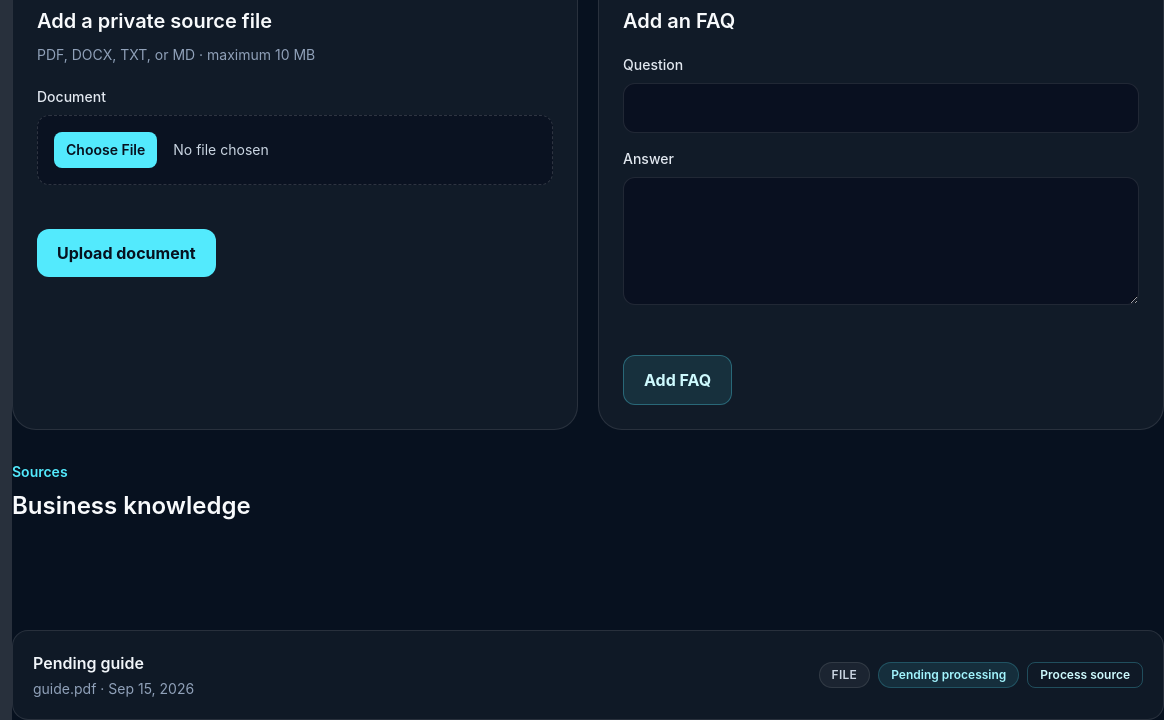
KnowledgePage › shows a safe failure without raw parser details
(page scrolled)
Click the button "Process source" at {"x": 1085, "y": 675}, box [1027,662,1143,688]
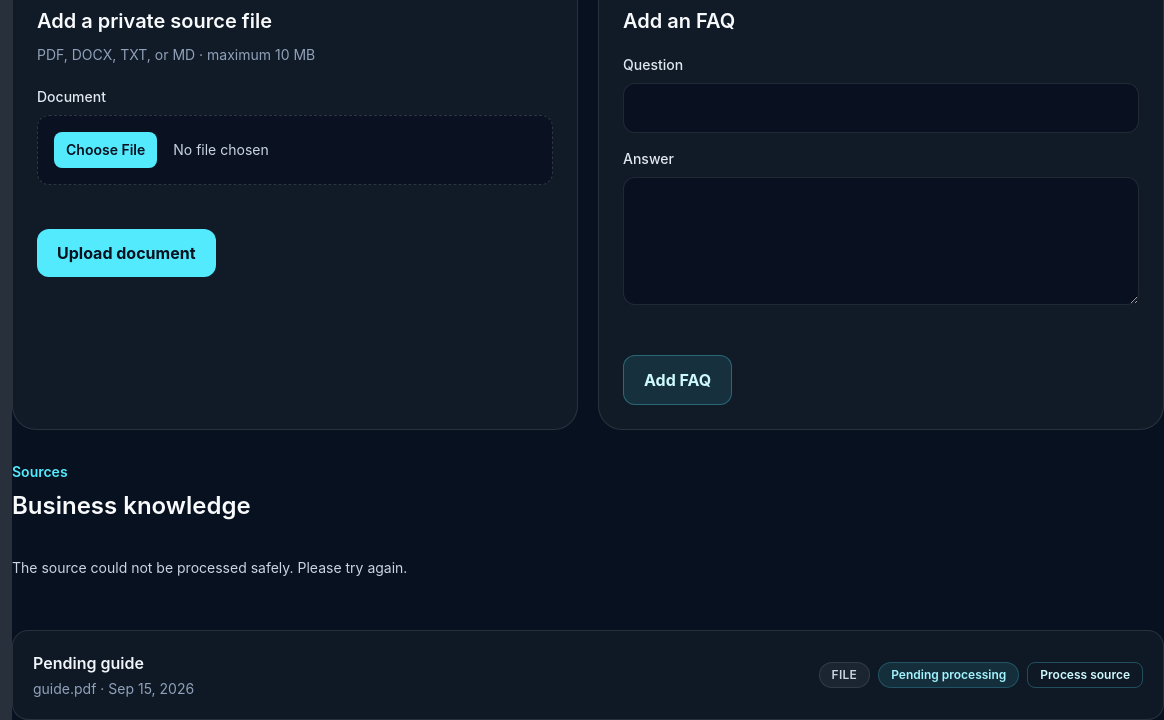
Now the text "The source could not be processed safely. Please try again." is shown, box [12,559,407,576]
